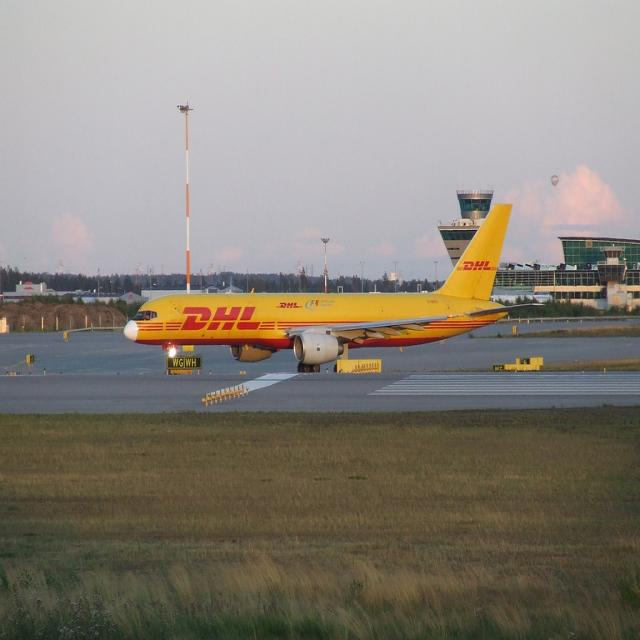dhl: (165, 306, 278, 333), (456, 258, 499, 276), (276, 300, 304, 313)
